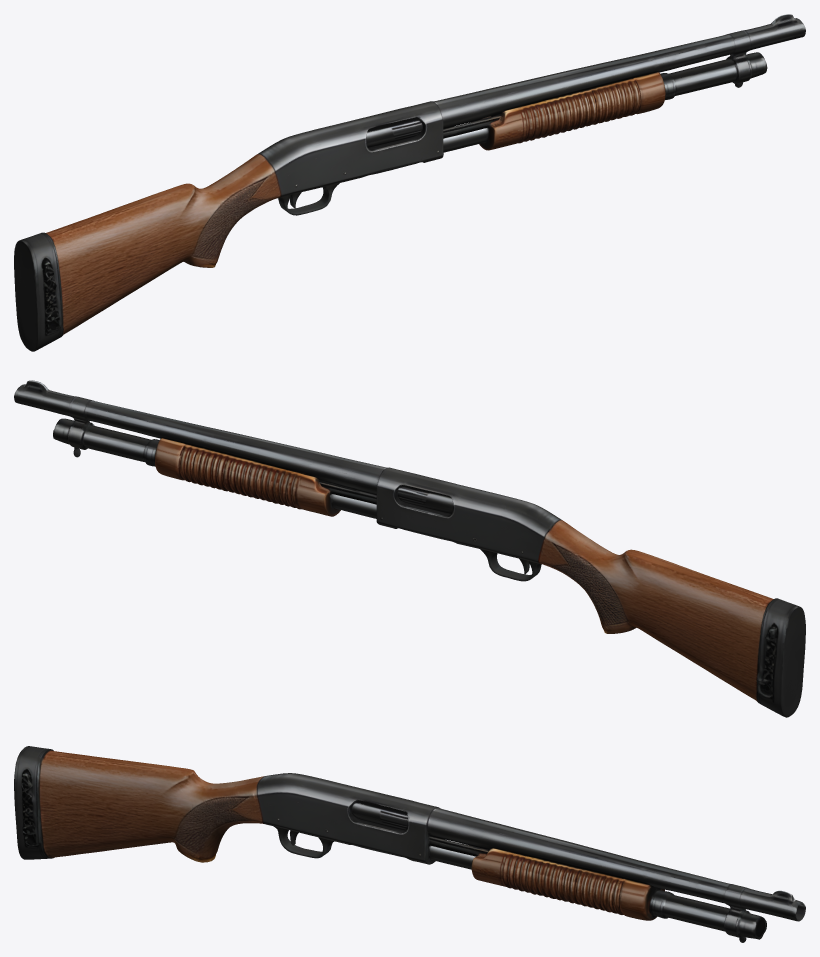
Rendered from shotgun.glb.
3 views of the same model, one above another, from view 1: azimuth 30°, elevation 25°; view 2: azimuth 150°, elevation 25°; view 3: azimuth 330°, elevation 25° (orthographic).
Parts seen in each view (by area): view 1: tripo_node_42a4c21f-5622-4708-8817-d1697ad26167; view 2: tripo_node_42a4c21f-5622-4708-8817-d1697ad26167; view 3: tripo_node_42a4c21f-5622-4708-8817-d1697ad26167.
Part boxes in pixels (<box>): tripo_node_42a4c21f-5622-4708-8817-d1697ad26167: <box>14,14,805,351</box>; tripo_node_42a4c21f-5622-4708-8817-d1697ad26167: <box>14,380,805,717</box>; tripo_node_42a4c21f-5622-4708-8817-d1697ad26167: <box>14,746,805,942</box>.
Bounding box in the file's own units: 1 × 0.185 × 0.0569.
1 material, 1 textured.
